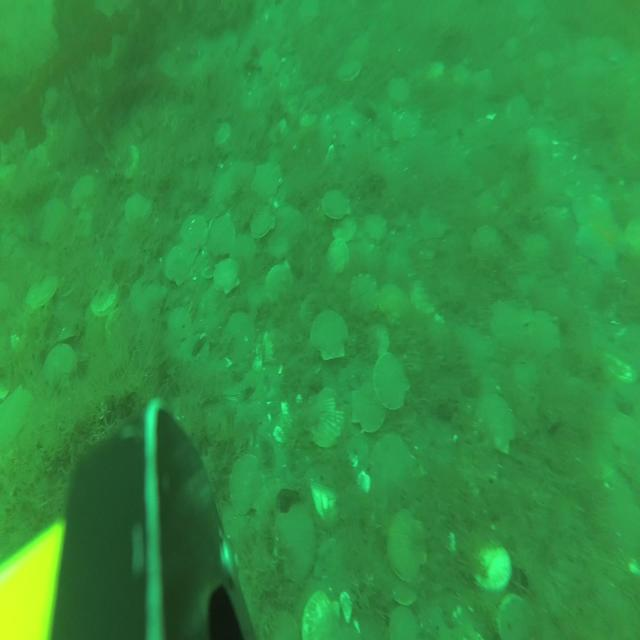scallop: (274, 502, 319, 585), (386, 505, 428, 583), (471, 389, 518, 457), (370, 433, 417, 500), (303, 382, 347, 451), (469, 537, 514, 595), (372, 350, 411, 413), (301, 583, 342, 640), (229, 454, 266, 516), (490, 296, 528, 356), (350, 379, 388, 436), (310, 307, 349, 362), (1, 385, 35, 442), (496, 595, 538, 640), (42, 342, 78, 392), (130, 272, 167, 320), (528, 306, 562, 358), (202, 398, 236, 446), (349, 271, 379, 324), (378, 278, 410, 326), (37, 197, 68, 246), (224, 312, 257, 358), (102, 306, 138, 348), (163, 241, 195, 287), (418, 199, 453, 240), (471, 223, 504, 266), (264, 260, 294, 307), (385, 604, 423, 640), (520, 232, 551, 276), (251, 159, 284, 199), (264, 604, 300, 640), (25, 274, 60, 310), (209, 211, 236, 257), (211, 256, 241, 296), (409, 279, 440, 317), (180, 212, 209, 252), (90, 284, 121, 321), (504, 93, 532, 133), (298, 290, 322, 336), (69, 172, 97, 211), (123, 191, 154, 226), (248, 204, 276, 242), (322, 187, 351, 222), (167, 306, 193, 342), (230, 232, 259, 263), (327, 237, 350, 276), (330, 214, 358, 244), (386, 75, 412, 107), (372, 319, 391, 362), (364, 212, 388, 246), (389, 581, 419, 608), (258, 48, 283, 80), (622, 215, 640, 258), (472, 62, 492, 98), (450, 59, 472, 91), (297, 1, 321, 30), (336, 60, 364, 84), (123, 143, 140, 182), (268, 114, 288, 147), (213, 118, 233, 150), (534, 45, 556, 73), (426, 57, 445, 86), (297, 110, 319, 131)
starfish: (571, 185, 626, 275)
